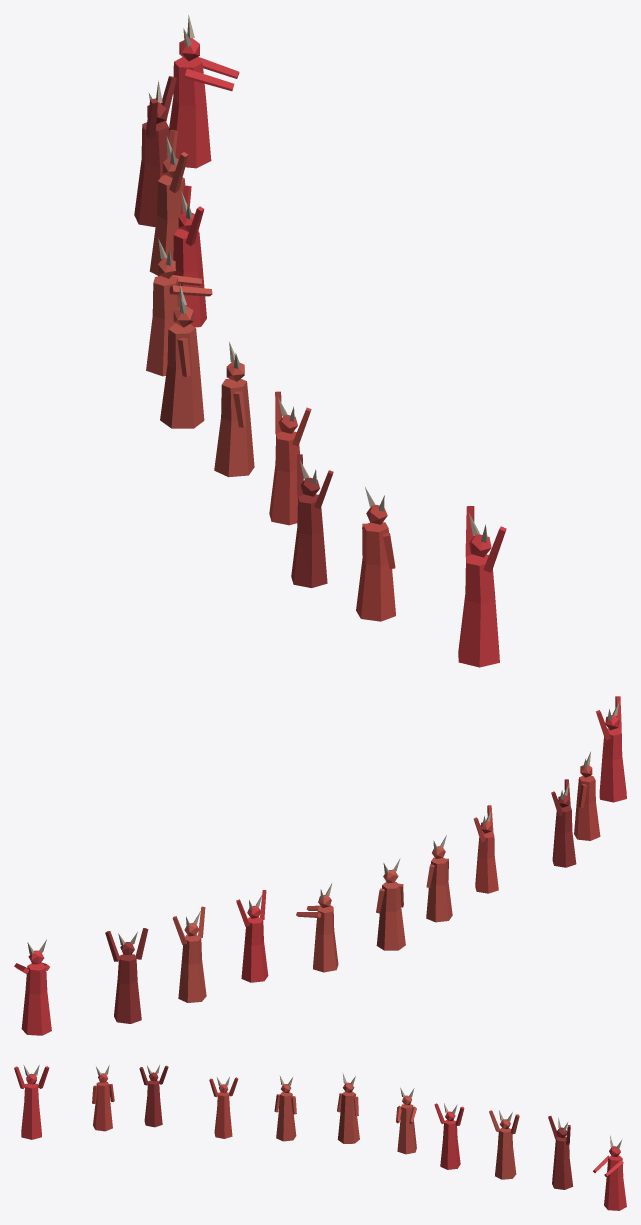
File: Stands_7_0_1_Ice.obj
The picture shows the model from 3 angles, top to bottom: view 1: azimuth 30°, elevation 25°; view 2: azimuth 150°, elevation 25°; view 3: azimuth 270°, elevation 25°; orthographic projection. The views are drawn at different scales.
Parts seen in each view (by area): view 1: Stands_7_0_1_Ice; view 2: Stands_7_0_1_Ice; view 3: Stands_7_0_1_Ice.
Part boxes in pixels (left/top/right/bottom): Stands_7_0_1_Ice: left=134, top=15, right=506, bottom=667; Stands_7_0_1_Ice: left=14, top=696, right=626, bottom=1035; Stands_7_0_1_Ice: left=14, top=1065, right=626, bottom=1210.
Size of the model in its own units: 12.78 by 4.29 by 33.88.
1 material, 1 textured.
